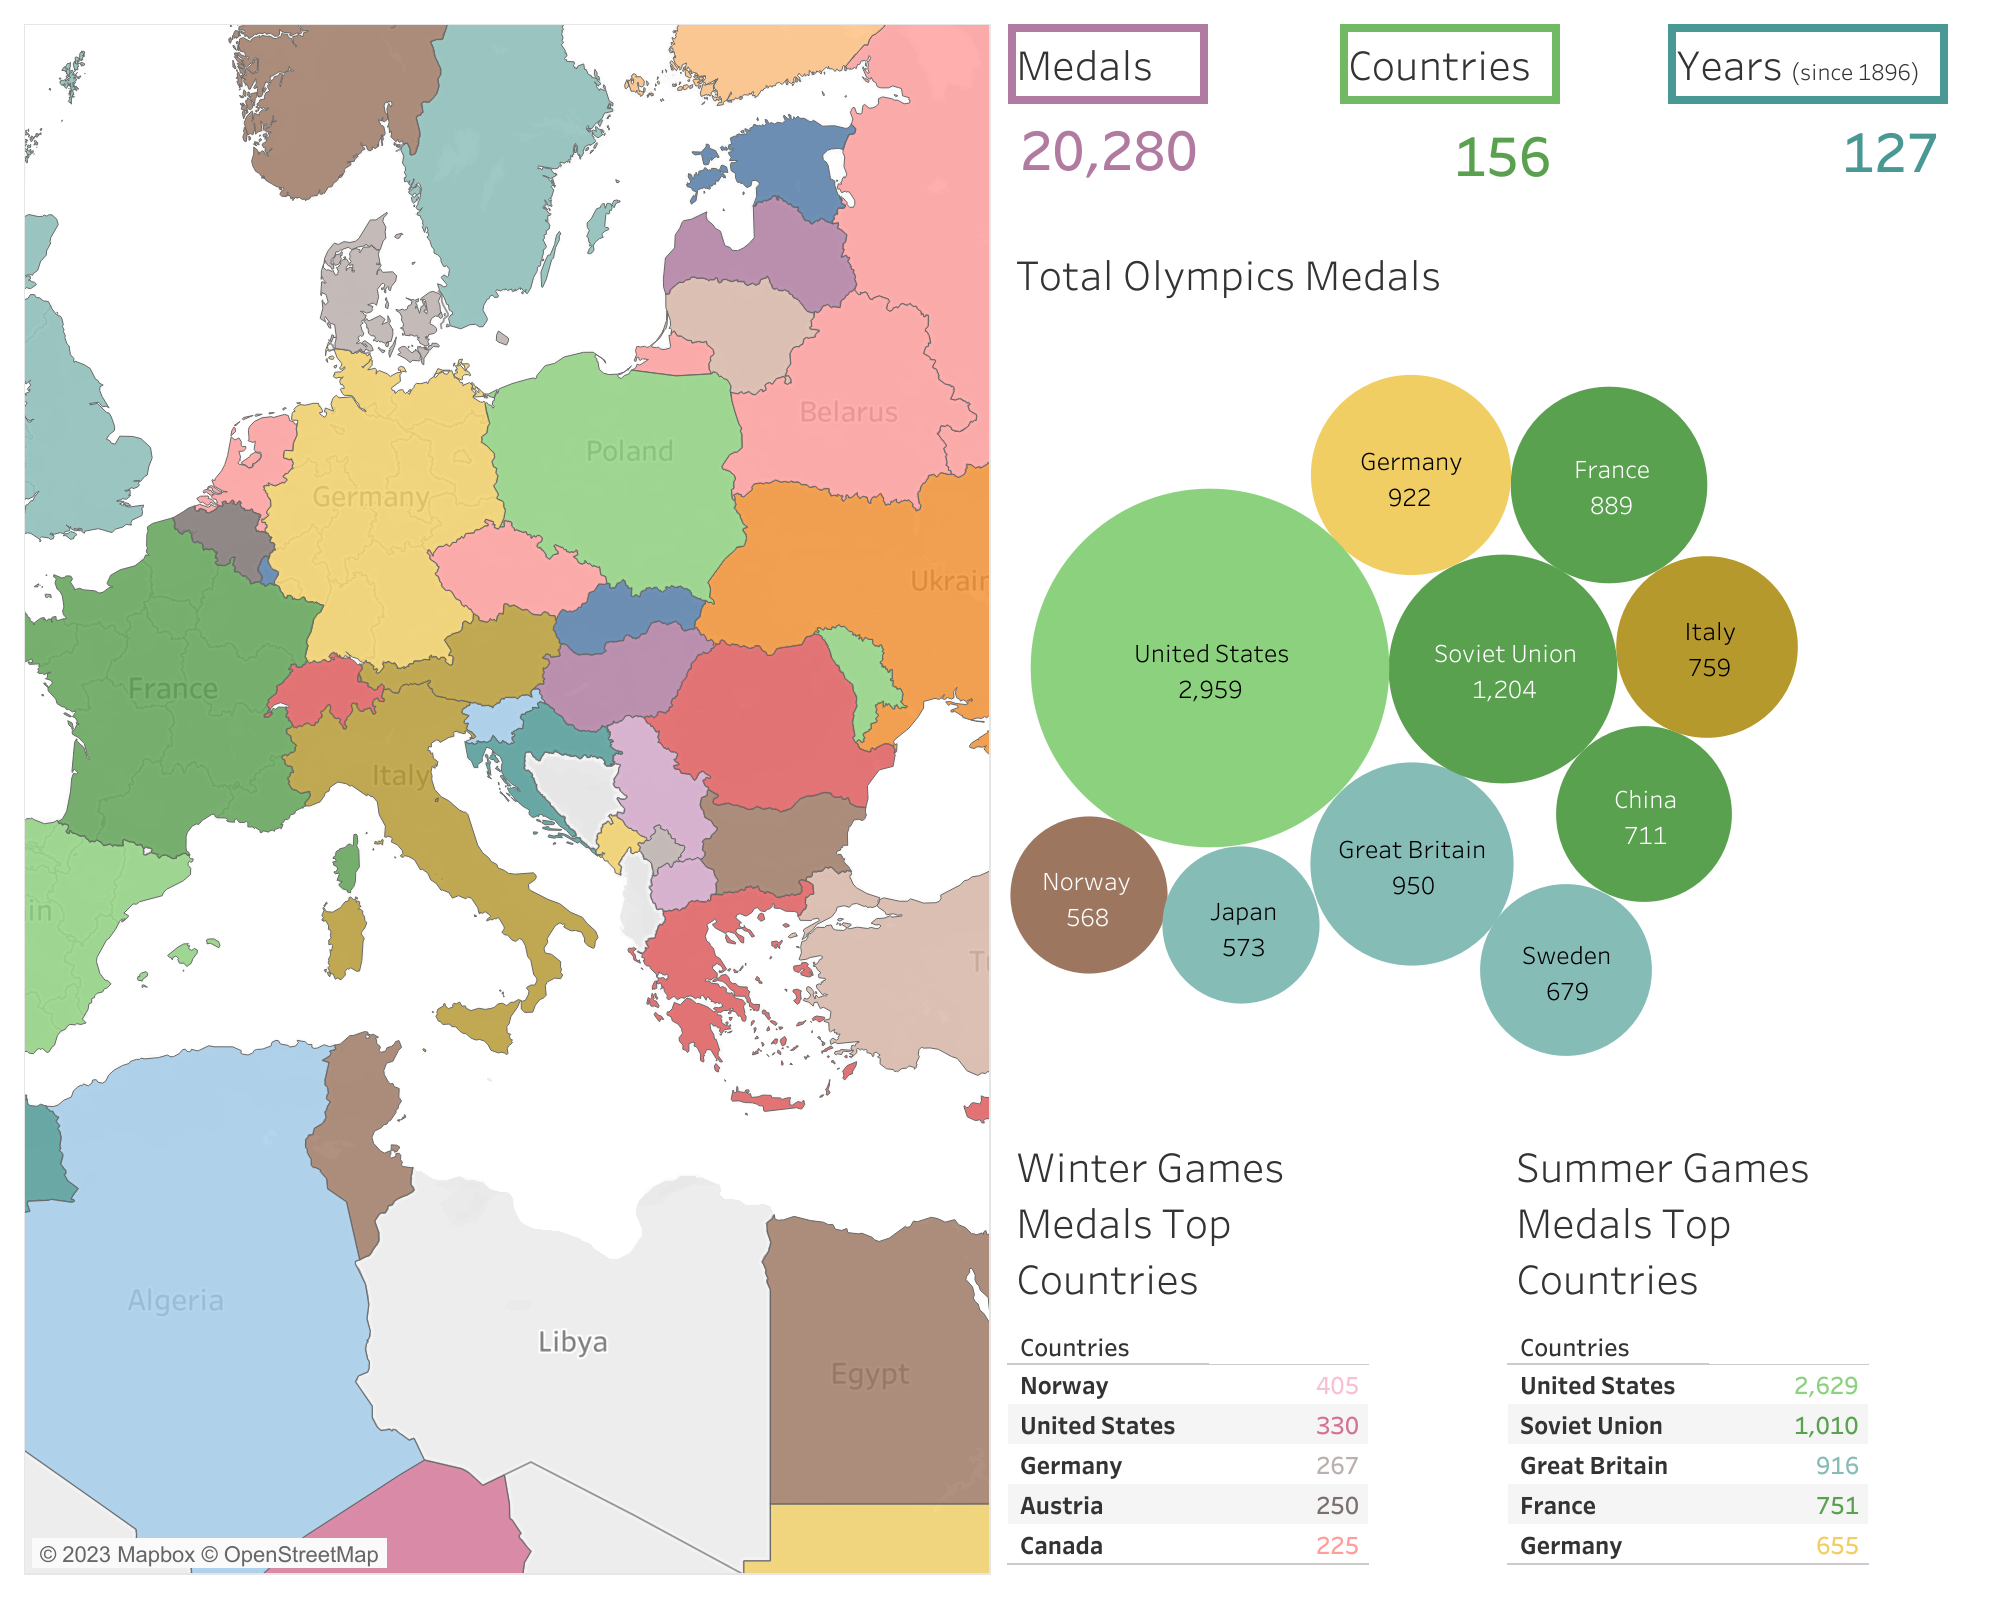

The dashboard page shown, as its layout file describes it:
{"tool":"tableau","page":{"name":"Dashboard 1","canvas":[1000,800],"ordinal":0},"visuals":[{"type":"worksheet","title":"World Map","mark":"Multipolygon","box":[8,8,492,784]},{"type":"worksheet","title":"Medals","mark":"Automatic","box":[500,8,166,105]},{"type":"worksheet","title":"Countries","mark":"Automatic","box":[666,8,164,105]},{"type":"worksheet","title":"Years","mark":"Automatic","box":[830,8,162,105]},{"type":"worksheet","title":"Total Olympics Medals","mark":"Circle","box":[500,113,492,446]},{"type":"worksheet","title":"Winter Medals Top Countries","mark":"Automatic","rows":["countries "],"box":[500,559,250,233]},{"type":"worksheet","title":"Summer Medals Top Countries","mark":"Automatic","rows":["countries "],"box":[750,559,242,233]}]}

Visuals, with their boxes in screenshot pixels (x1, y1, x2, y2), scaled from the page's 1000x800 canvas onto the 2000x1600 screenshot:
"World Map" worksheet (Multipolygon marks): locate(16, 16, 1000, 1584)
"Medals" worksheet: locate(1000, 16, 1332, 226)
"Countries" worksheet: locate(1332, 16, 1660, 226)
"Years" worksheet: locate(1660, 16, 1984, 226)
"Total Olympics Medals" worksheet (Circle marks): locate(1000, 226, 1984, 1118)
"Winter Medals Top Countries" worksheet: locate(1000, 1118, 1500, 1584)
"Summer Medals Top Countries" worksheet: locate(1500, 1118, 1984, 1584)
